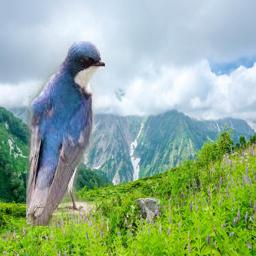Swallow: (27, 42, 106, 227)
